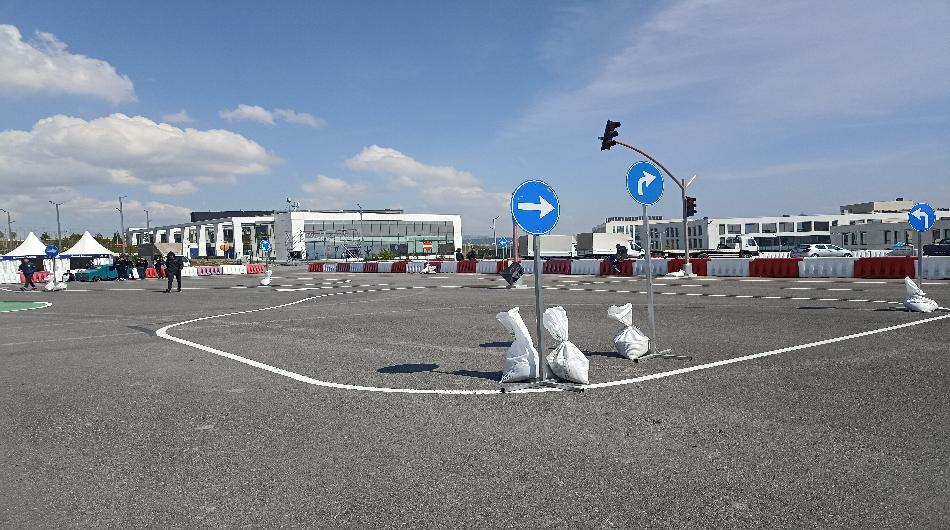saga_mecburi_1: (510, 179, 559, 235)
saga_mecburi_2: (626, 160, 667, 207)
sola_mecburi_2: (909, 201, 937, 237)
